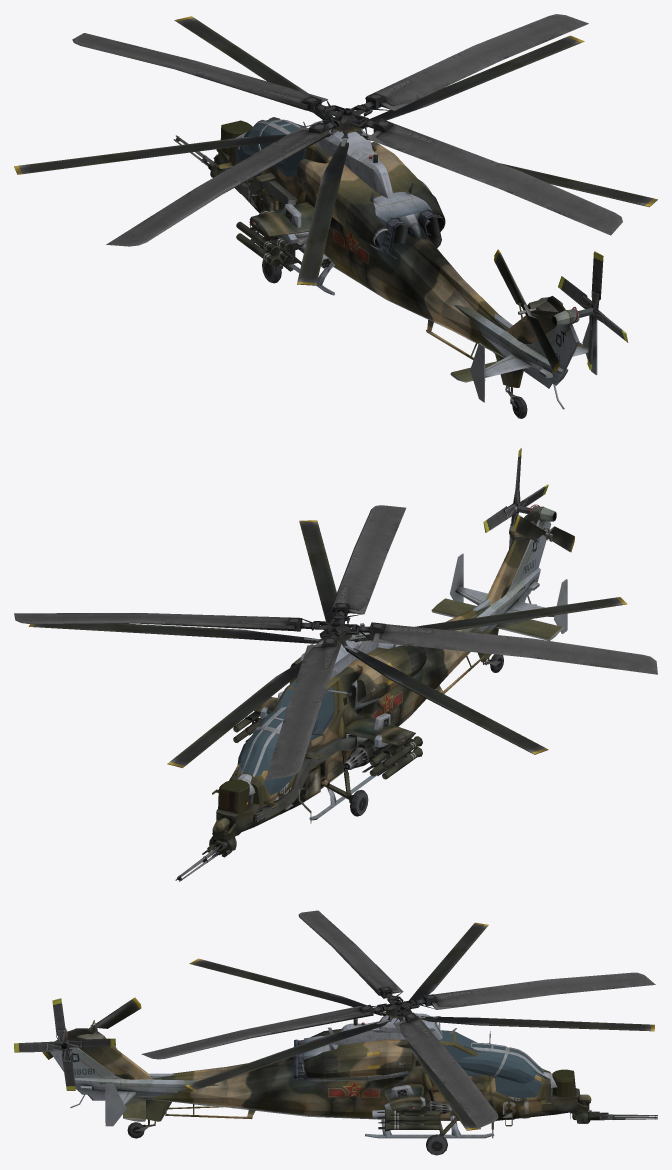
The model's file is helis.glb.
3 views of the same model, one above another, from view 1: azimuth 30°, elevation 25°; view 2: azimuth 150°, elevation 25°; view 3: azimuth 270°, elevation 25° (orthographic). The views are drawn at different scales.
Parts seen in each view (by area): view 1: ahe_z10, ahe_ah1z_mainrotor, ahe_ah1z, ahe_z10_mainrotor, ahe_ah1z_tailrotor, ahe_z10_tailrotor, ahe_ah1z_glass, ahe_z10_glass; view 2: ahe_z10, ahe_ah1z_mainrotor, ahe_z10_mainrotor, ahe_ah1z, ahe_ah1z_glass, ahe_z10_glass, ahe_ah1z_tailrotor, ahe_z10_tailrotor; view 3: ahe_z10, ahe_ah1z_mainrotor, ahe_ah1z, ahe_z10_mainrotor, ahe_ah1z_glass, ahe_ah1z_tailrotor, ahe_z10_glass, ahe_z10_tailrotor.
Part boxes in pixels (x1,y1,x2,y2): ahe_z10: (173, 120, 583, 418); ahe_ah1z_mainrotor: (72, 14, 622, 246); ahe_ah1z: (235, 111, 597, 409); ahe_z10_mainrotor: (14, 16, 657, 285); ahe_ah1z_tailrotor: (558, 251, 628, 370); ahe_z10_tailrotor: (494, 249, 559, 372); ahe_ah1z_glass: (241, 119, 304, 163); ahe_z10_glass: (236, 146, 306, 177); ahe_z10: (175, 510, 563, 881); ahe_ah1z_mainrotor: (14, 505, 657, 779); ahe_z10_mainrotor: (28, 520, 626, 767); ahe_ah1z: (237, 504, 567, 820); ahe_ah1z_glass: (237, 708, 319, 774); ahe_z10_glass: (238, 680, 334, 795); ahe_ah1z_tailrotor: (483, 448, 548, 548); ahe_z10_tailrotor: (514, 515, 574, 552); ahe_z10: (66, 1026, 657, 1155); ahe_ah1z_mainrotor: (141, 910, 655, 1128); ahe_ah1z: (50, 1013, 578, 1138); ahe_z10_mainrotor: (185, 922, 654, 1130); ahe_ah1z_glass: (457, 1043, 542, 1083); ahe_ah1z_tailrotor: (14, 998, 115, 1090); ahe_z10_glass: (439, 1030, 542, 1098); ahe_z10_tailrotor: (42, 997, 141, 1059).
Bounding box in the file's own units: 13.96 × 4.45 × 17.42.
8 materials, 6 textured.
